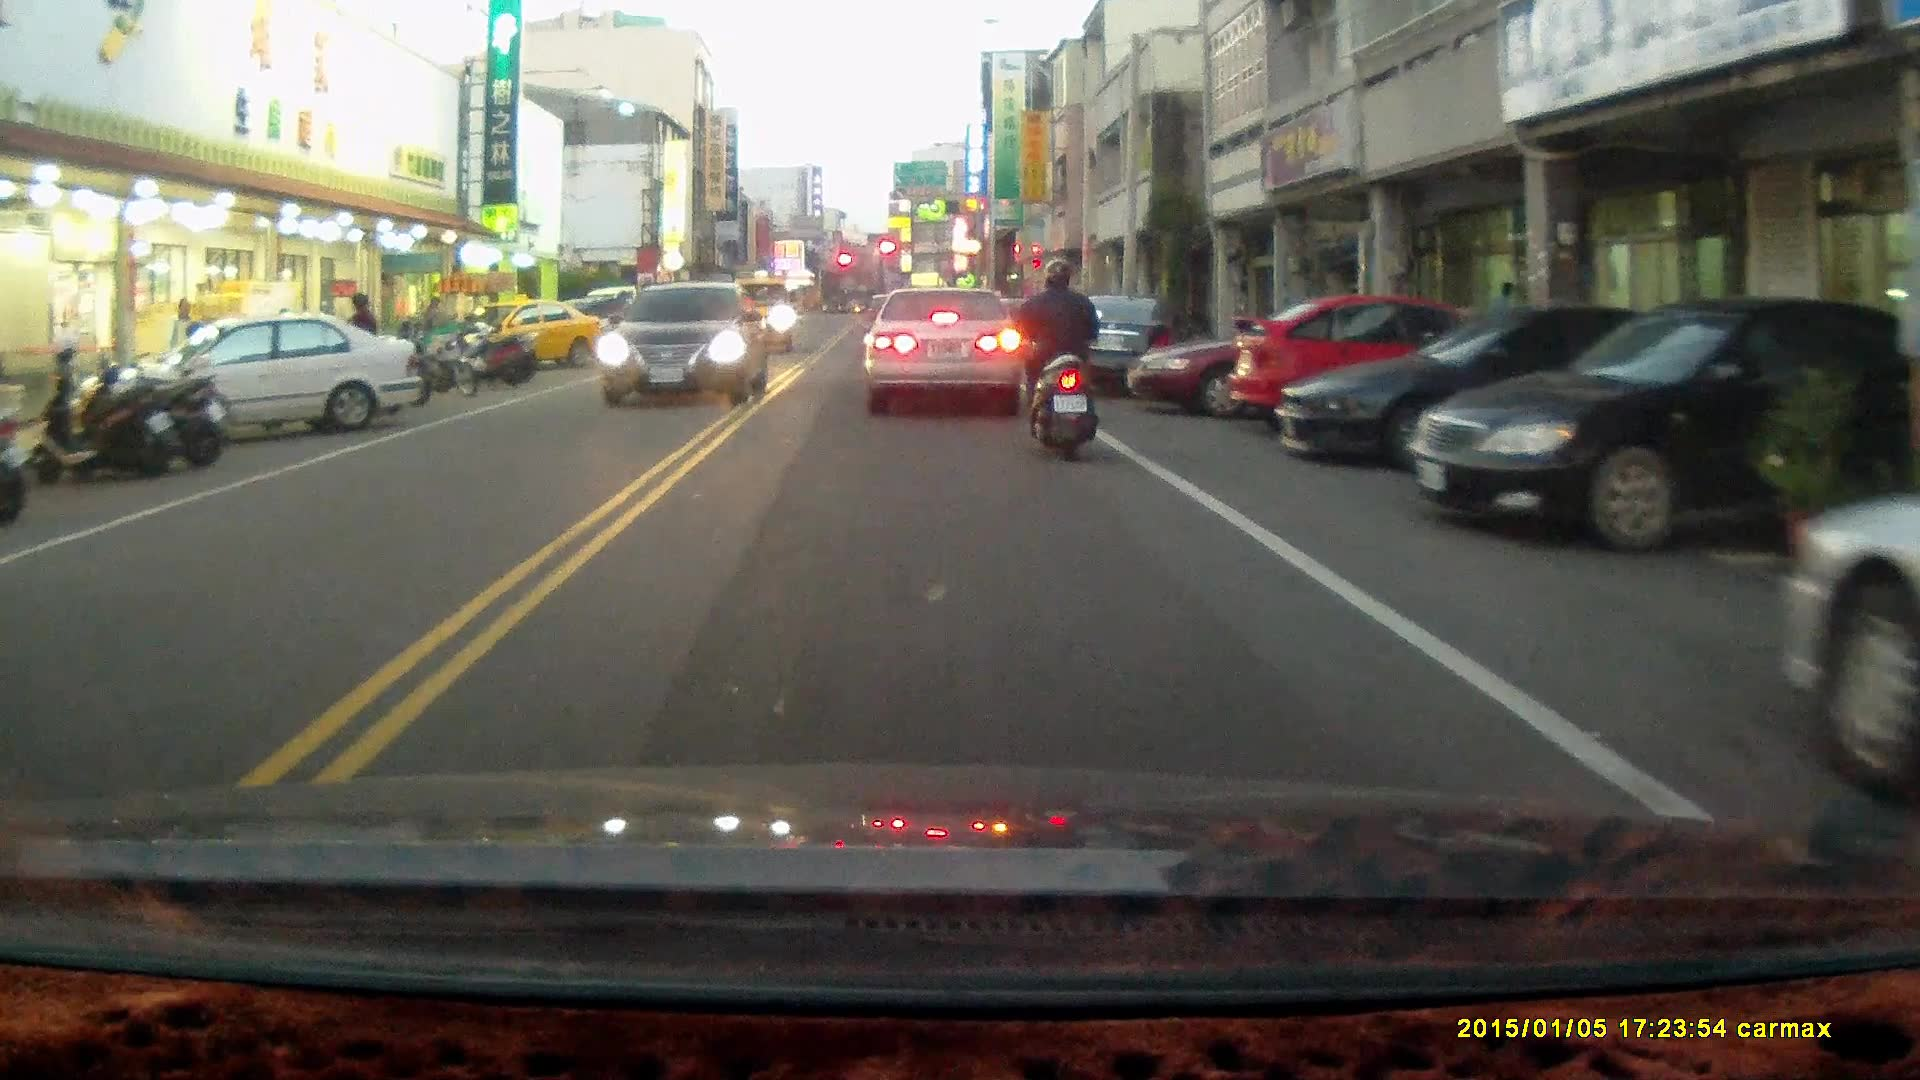pedestrian: (342, 290, 378, 388), (166, 296, 202, 389)
rider: (1008, 258, 1103, 467)
vehicle: (1406, 296, 1899, 554), (1281, 310, 1699, 482), (1776, 439, 1920, 806), (85, 311, 419, 449), (1224, 295, 1516, 440), (1126, 305, 1458, 427), (599, 280, 767, 410), (865, 286, 1029, 421), (1046, 295, 1183, 401), (487, 305, 611, 381)
